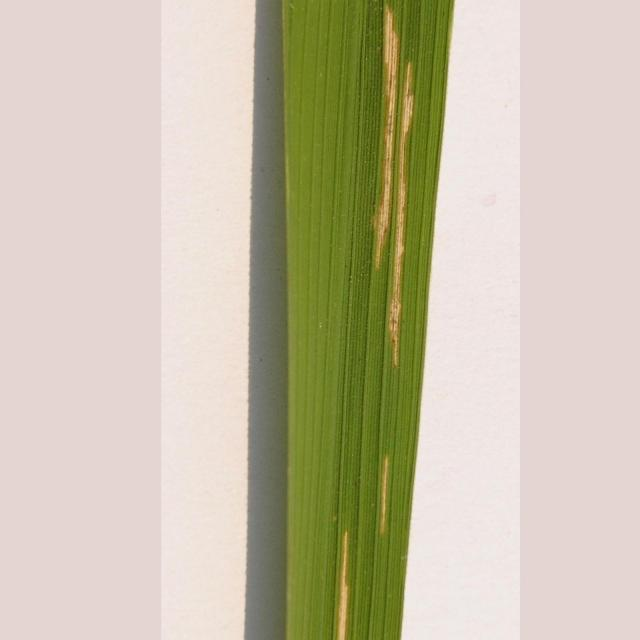leaf blight: (366, 5, 419, 363), (327, 529, 365, 640), (373, 449, 400, 538)
